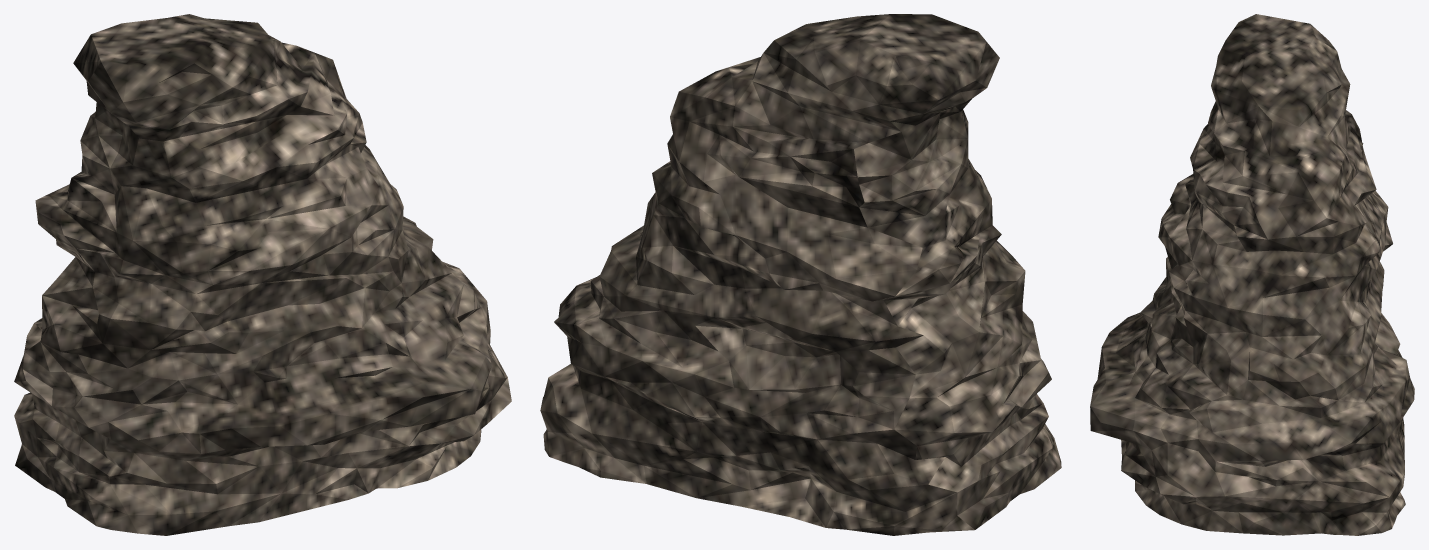
The model's file is SM_ION_CommonRock_04.fbx.
3 renders of one model, left to right at view 1: azimuth 30°, elevation 25°; view 2: azimuth 150°, elevation 25°; view 3: azimuth 270°, elevation 25°, orthographic. The views are drawn at different scales.
Parts seen in each view (by area): view 1: SM_ION_CommonRock_04.mo; view 2: SM_ION_CommonRock_04.mo; view 3: SM_ION_CommonRock_04.mo.
Part boxes in pixels (x1,y1,x2,y2): SM_ION_CommonRock_04.mo: [14, 14, 511, 535]; SM_ION_CommonRock_04.mo: [540, 14, 1061, 535]; SM_ION_CommonRock_04.mo: [1090, 14, 1414, 535].
Bounding box in the file's own units: 346 × 324 × 258.
